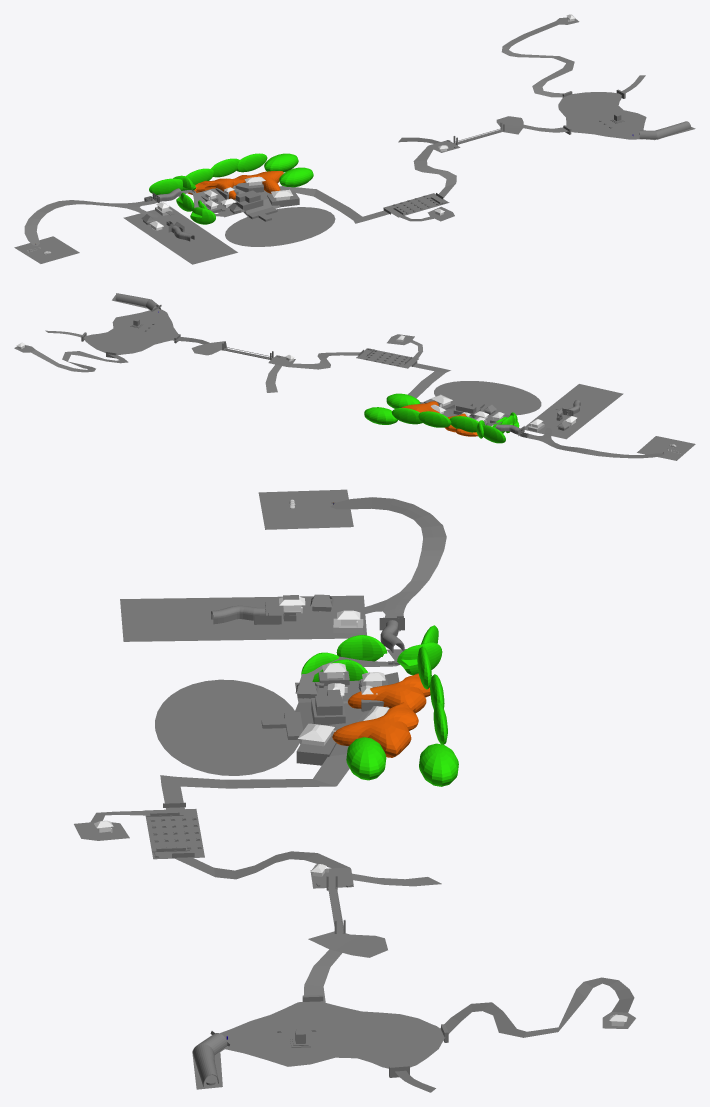
The picture shows the model from 3 angles, top to bottom: view 1: azimuth 30°, elevation 25°; view 2: azimuth 150°, elevation 25°; view 3: azimuth 270°, elevation 25°; orthographic projection. The views are drawn at different scales.
Parts seen in each view (by area): view 1: 円柱, 円, 平面_1, ground_001, road, 平面_001, ground, 平面, 平面_002, 球_007, 球_001, 球_008 (+4 smaller); view 2: 円柱, 円, 平面_1, 平面_001, ground, road, ground_001, 平面, 平面_002, 球_008, 球_005, 球_006 (+5 smaller); view 3: 円柱, 円, 平面_1, ground_001, road, ground, 平面_001, 球_001, 平面_002, 平面, 球_001__1_, 球_007 (+4 smaller).
Part boxes in pixels (x1,y1,x2,y2): 円柱: (501,17,695,140); 円: (225,207,335,246); 平面_1: (123,206,237,264); ground_001: (197,185,391,223); road: (24,199,158,245); 平面_001: (398,137,460,197); ground: (14,236,79,263); 平面: (383,193,449,217); 平面_002: (496,116,568,134); 球_007: (279,167,313,187); 球_001: (232,171,283,193); 球_008: (264,153,298,172); 円柱: (14,295,178,372); 円: (434,381,541,415); 平面_1: (524,384,623,439); 平面_001: (265,352,359,392); ground: (637,436,695,460); road: (519,428,664,458); ground_001: (408,363,505,425); 平面: (356,348,418,368); 平面_002: (173,337,227,355); 球_008: (364,407,397,424); 球_005: (418,411,451,427); 球_006: (391,408,422,424); 円柱: (192,977,635,1092); 円: (155,679,299,775); 平面_1: (120,595,366,641); ground_001: (160,672,399,809); road: (330,497,446,631); ground: (258,489,353,529); 平面_001: (175,851,441,888); 球_001: (332,702,418,757); 平面_002: (303,931,387,1002); 平面: (145,809,204,859); 球_001__1_: (348,673,430,713); 球_007: (346,737,386,780).
Bounding box in the file's own units: 104491 × 6372 × 41677.
